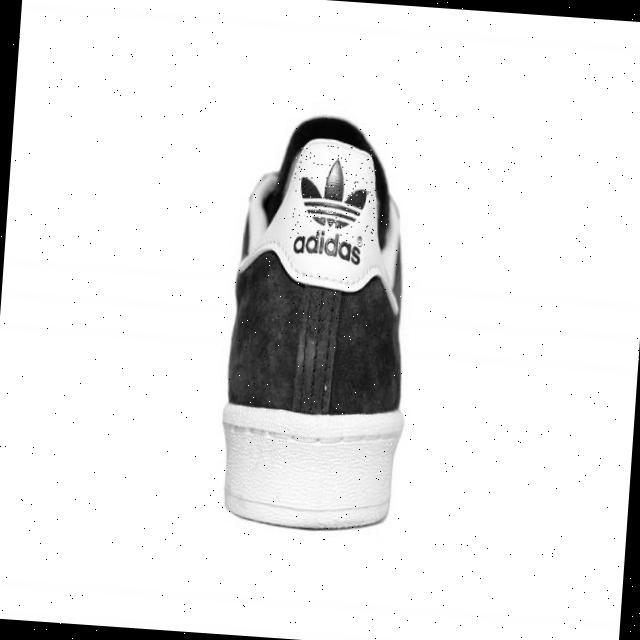Adidas: (290, 142, 380, 245)
